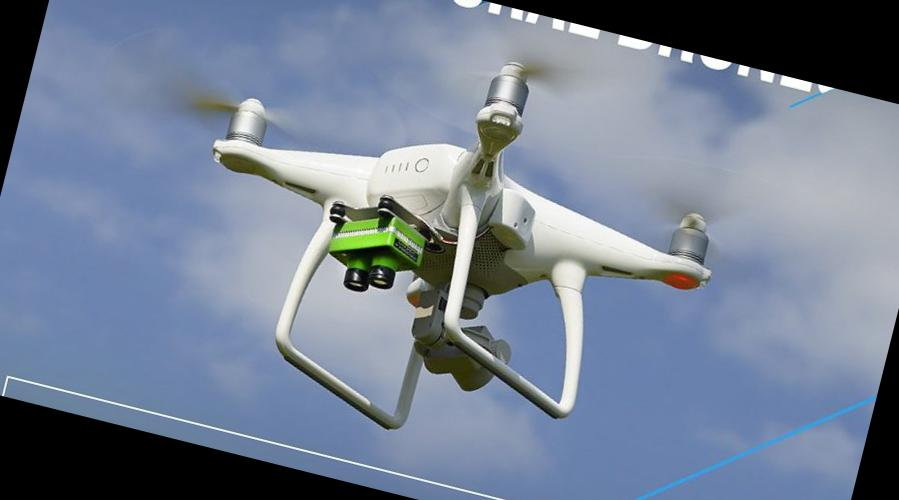drone: (130, 5, 768, 448)
